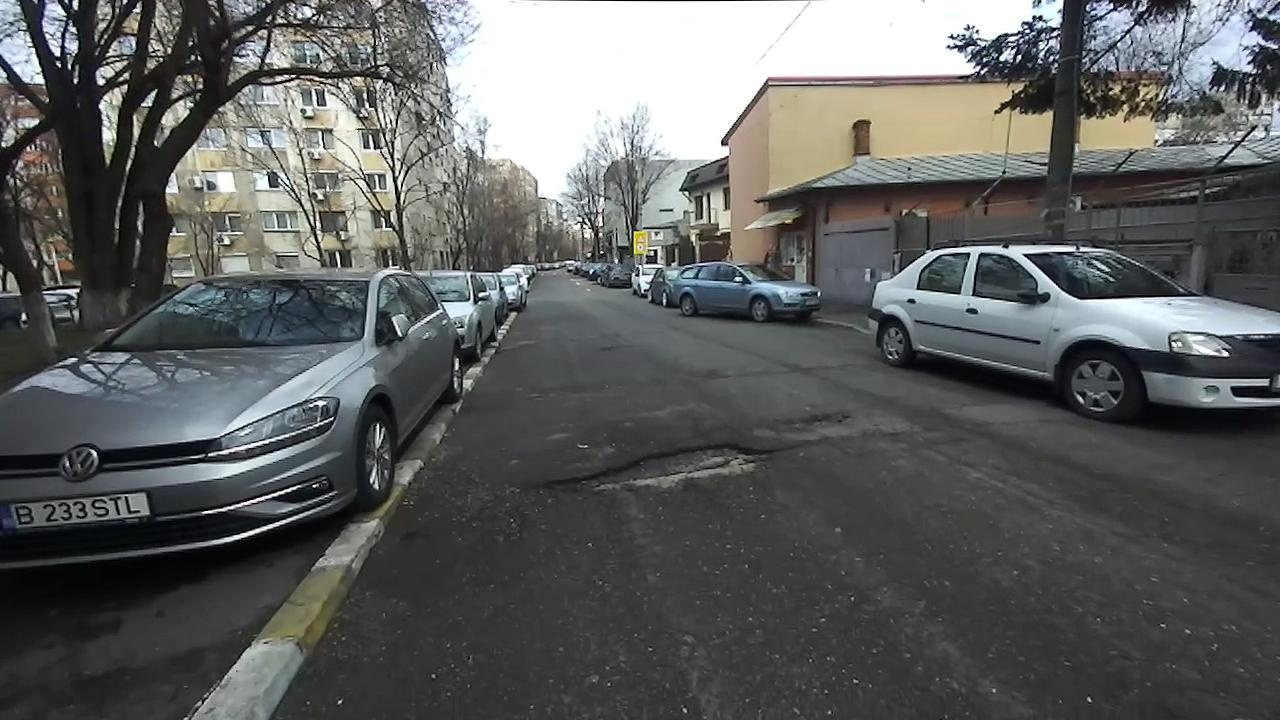pothole: (538, 436, 817, 495), (775, 402, 856, 427)
